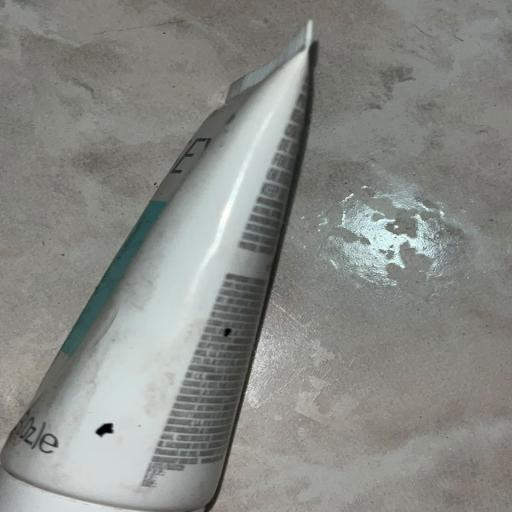HDPE: (12, 40, 390, 512)
